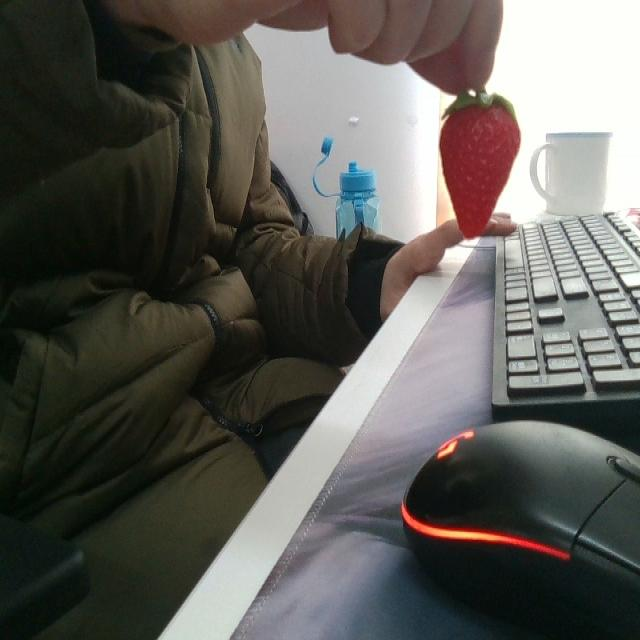mature: (440, 92, 521, 241)
